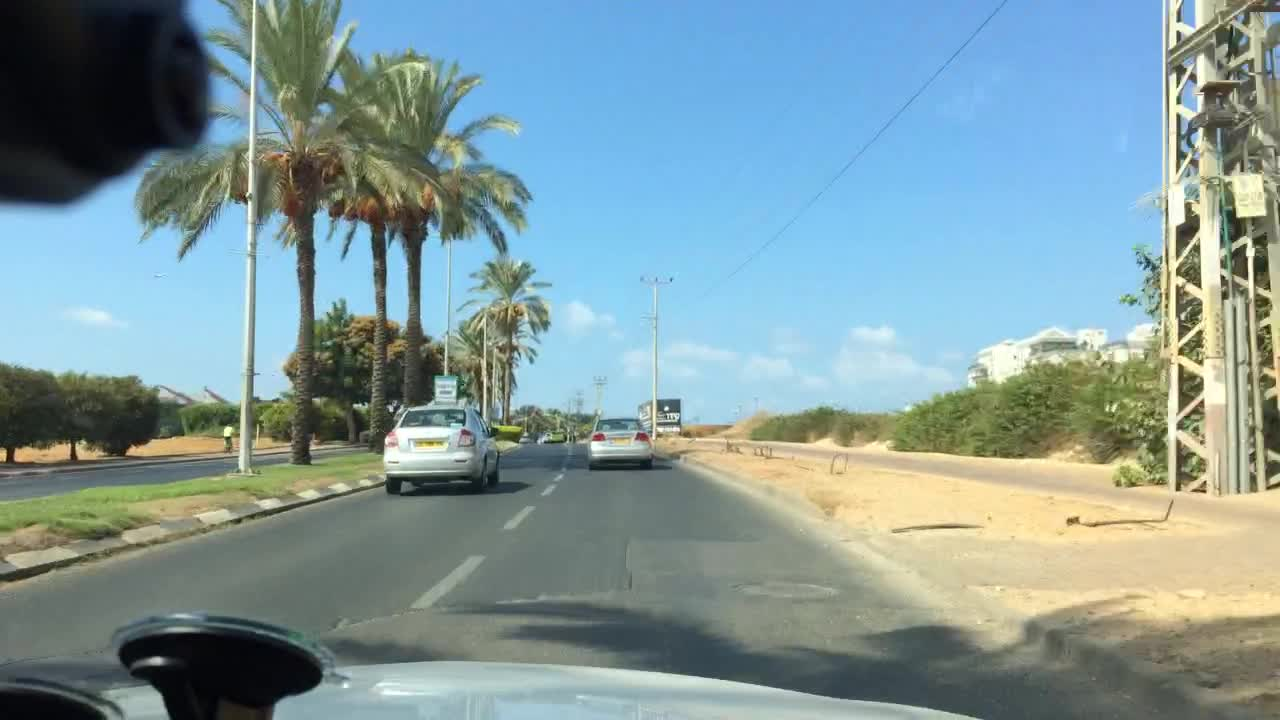car: (382, 405, 500, 496), (584, 416, 657, 469), (543, 430, 568, 443), (517, 433, 532, 443)
person: (223, 424, 235, 458)
traffic sign: (435, 375, 461, 405)
